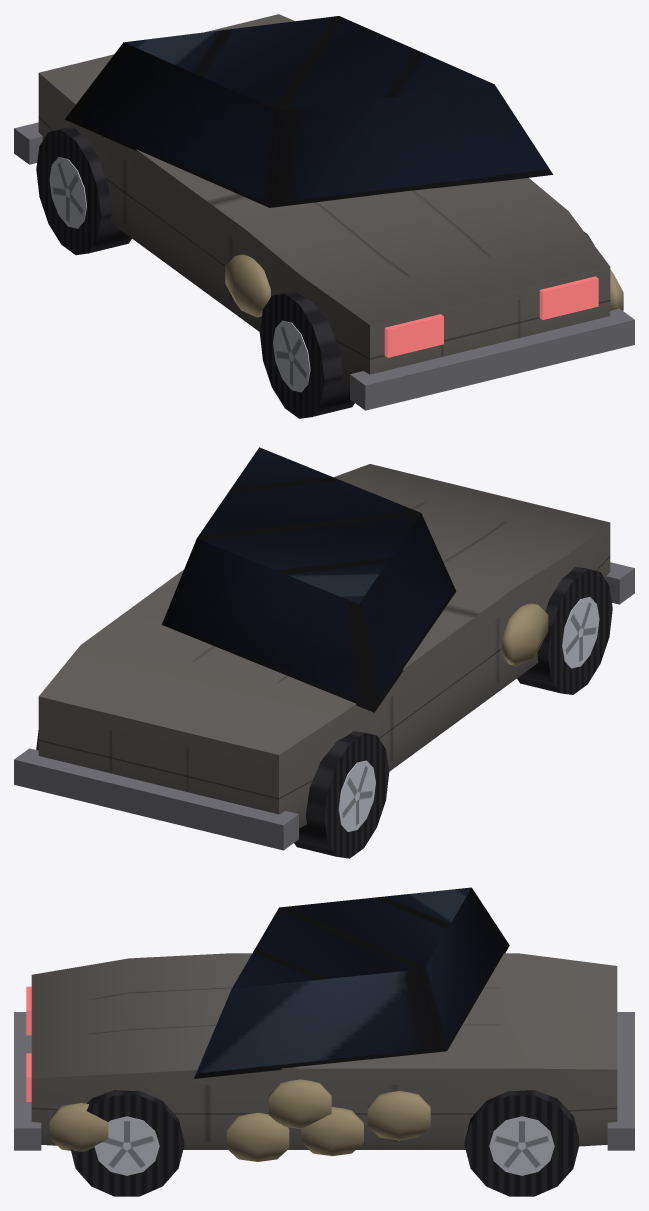
Rendered from cruze.glb.
3 views of the same model, one above another, from view 1: azimuth 30°, elevation 25°; view 2: azimuth 150°, elevation 25°; view 3: azimuth 270°, elevation 25° (orthographic). The views are drawn at different scales.
Bounding box in the file's own units: 2.32 × 1.59 × 4.56.
Materials: 11 (3 with a texture image).
